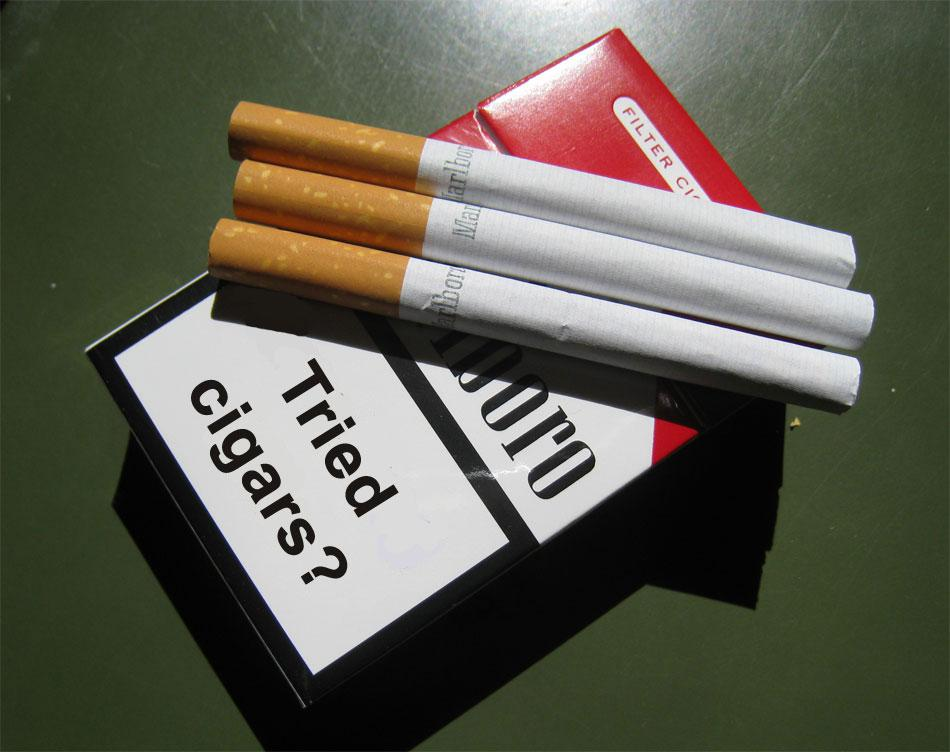marlboro_red: (179, 120, 744, 564)
